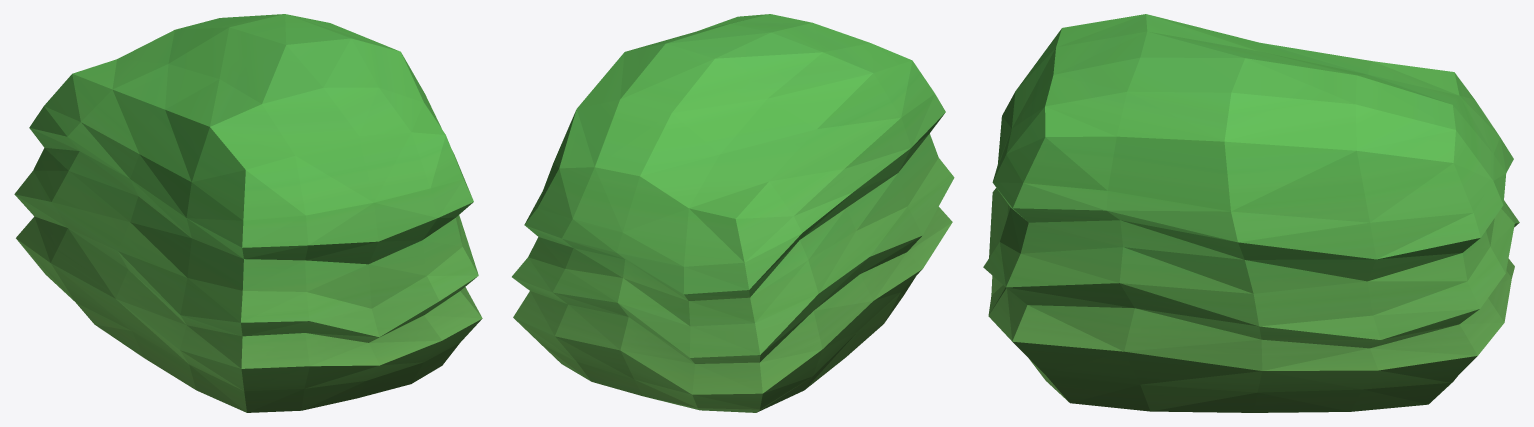
The model's file is bush_round.glb.
3 renders of one model, left to right at view 1: azimuth 30°, elevation 25°; view 2: azimuth 150°, elevation 25°; view 3: azimuth 270°, elevation 25°, orthographic. The views are drawn at different scales.
Visible parts, largest first — view 1: Bush_1_1_C; view 2: Bush_1_1_C; view 3: Bush_1_1_C.
Part boxes in pixels (x1,y1,x2,y2): Bush_1_1_C: (14, 14, 482, 412); Bush_1_1_C: (512, 14, 954, 412); Bush_1_1_C: (983, 14, 1519, 412).
Bounding box in the file's own units: 1.19 × 1 × 1.6.
Materials: 1 (1 with a texture image).
